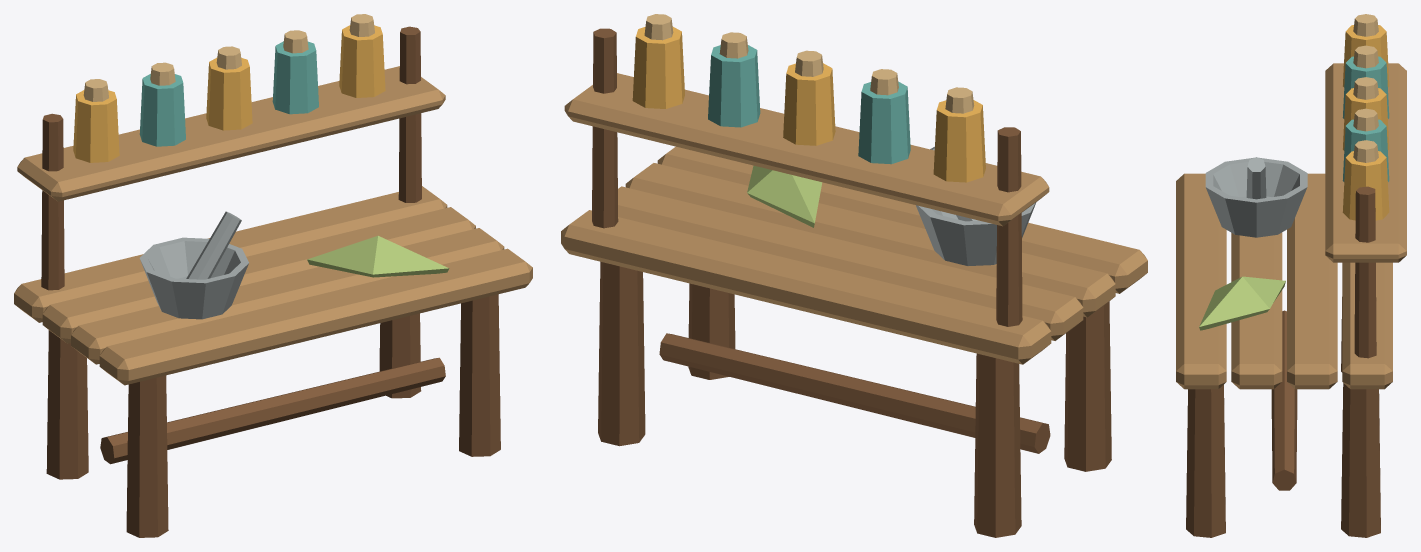
File: CC_Apothecary.fbx
3 renders of one model, left to right at view 1: azimuth 30°, elevation 25°; view 2: azimuth 150°, elevation 25°; view 3: azimuth 270°, elevation 25°, orthographic. The views are drawn at different scales.
Visible parts, largest first — view 1: Plank.008, Medicine shelf, Plank.011, Plank.009, Plank.010, Brace.002, Leg.008, Leg.010, Mortar, Leg.009, Herb, Shelf post (+8 smaller); view 2: Plank.011, Medicine shelf, Plank.010, Plank.009, Brace.002, Plank.008, Leg.009, Leg.011, Leg.008, Shelf post, Shelf post.001, Medicine jar.004 (+7 smaller); view 3: Plank.008, Plank.010, Medicine shelf, Plank.009, Mortar, Leg.011, Leg.010, Plank.011, Shelf post.001, Brace.002, Herb, Medicine jar.006 (+10 smaller).
Boxes of the visible parts, x1=… form: Plank.008: x1=99, y1=248, x2=532, y2=385; Medicine shelf: x1=17, y1=66, x2=445, y2=201; Plank.011: x1=14, y1=186, x2=447, y2=322; Plank.009: x1=71, y1=228, x2=504, y2=364; Plank.010: x1=42, y1=207, x2=475, y2=343; Brace.002: x1=100, y1=357, x2=445, y2=464; Leg.008: x1=126, y1=375, x2=168, y2=537; Leg.010: x1=459, y1=294, x2=500, y2=456; Mortar: x1=139, y1=237, x2=248, y2=319; Leg.009: x1=46, y1=330, x2=88, y2=479; Herb: x1=307, y1=235, x2=449, y2=277; Shelf post: x1=41, y1=113, x2=64, y2=290; Plank.011: x1=561, y1=210, x2=1051, y2=364; Medicine shelf: x1=564, y1=73, x2=1049, y2=226; Plank.010: x1=618, y1=186, x2=1083, y2=340; Plank.009: x1=625, y1=163, x2=1115, y2=317; Brace.002: x1=659, y1=333, x2=1050, y2=453; Plank.008: x1=657, y1=146, x2=1147, y2=293; Leg.009: x1=974, y1=353, x2=1021, y2=537; Leg.011: x1=598, y1=261, x2=645, y2=446; Leg.008: x1=1064, y1=301, x2=1111, y2=471; Shelf post: x1=996, y1=127, x2=1022, y2=326; Shelf post.001: x1=592, y1=28, x2=618, y2=228; Medicine jar.004: x1=783, y1=63, x2=835, y2=145; Plank.008: x1=1176, y1=173, x2=1226, y2=389; Plank.010: x1=1287, y1=173, x2=1337, y2=389; Medicine shelf: x1=1325, y1=63, x2=1406, y2=262; Plank.009: x1=1231, y1=232, x2=1282, y2=389; Mortar: x1=1205, y1=157, x2=1307, y2=237; Leg.011: x1=1341, y1=383, x2=1380, y2=537; Leg.010: x1=1186, y1=384, x2=1225, y2=537; Plank.011: x1=1342, y1=262, x2=1392, y2=389; Shelf post.001: x1=1354, y1=186, x2=1376, y2=358; Brace.002: x1=1271, y1=310, x2=1297, y2=490; Herb: x1=1199, y1=276, x2=1285, y2=330; Medicine jar.006: x1=1342, y1=151, x2=1389, y2=220.
Size of the model in its own units: 2 by 1.74 by 0.99.
